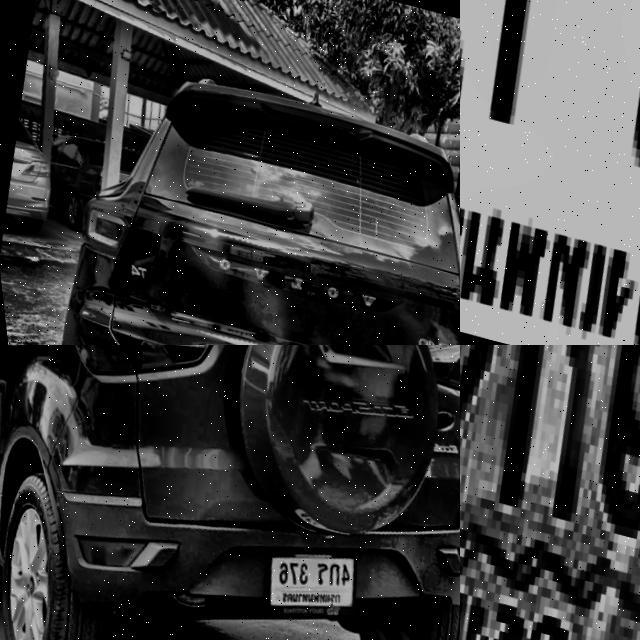license-plate: (460, 0, 640, 345), (460, 345, 640, 640), (238, 527, 359, 636)
